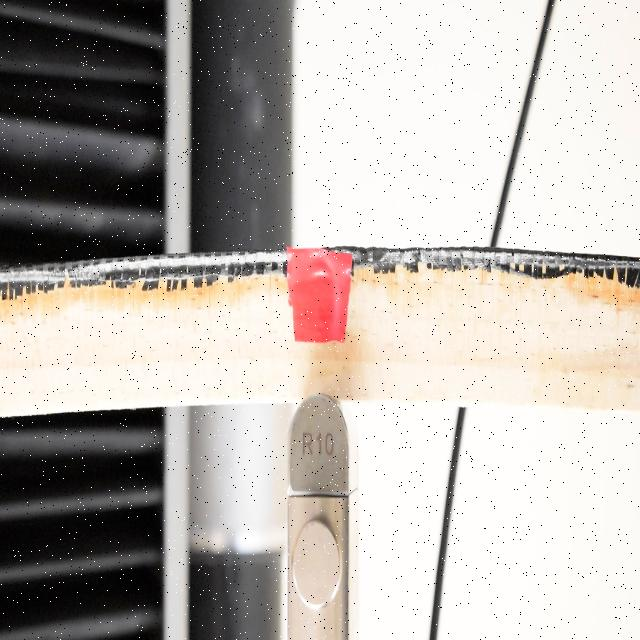wood: (0, 246, 640, 417)
